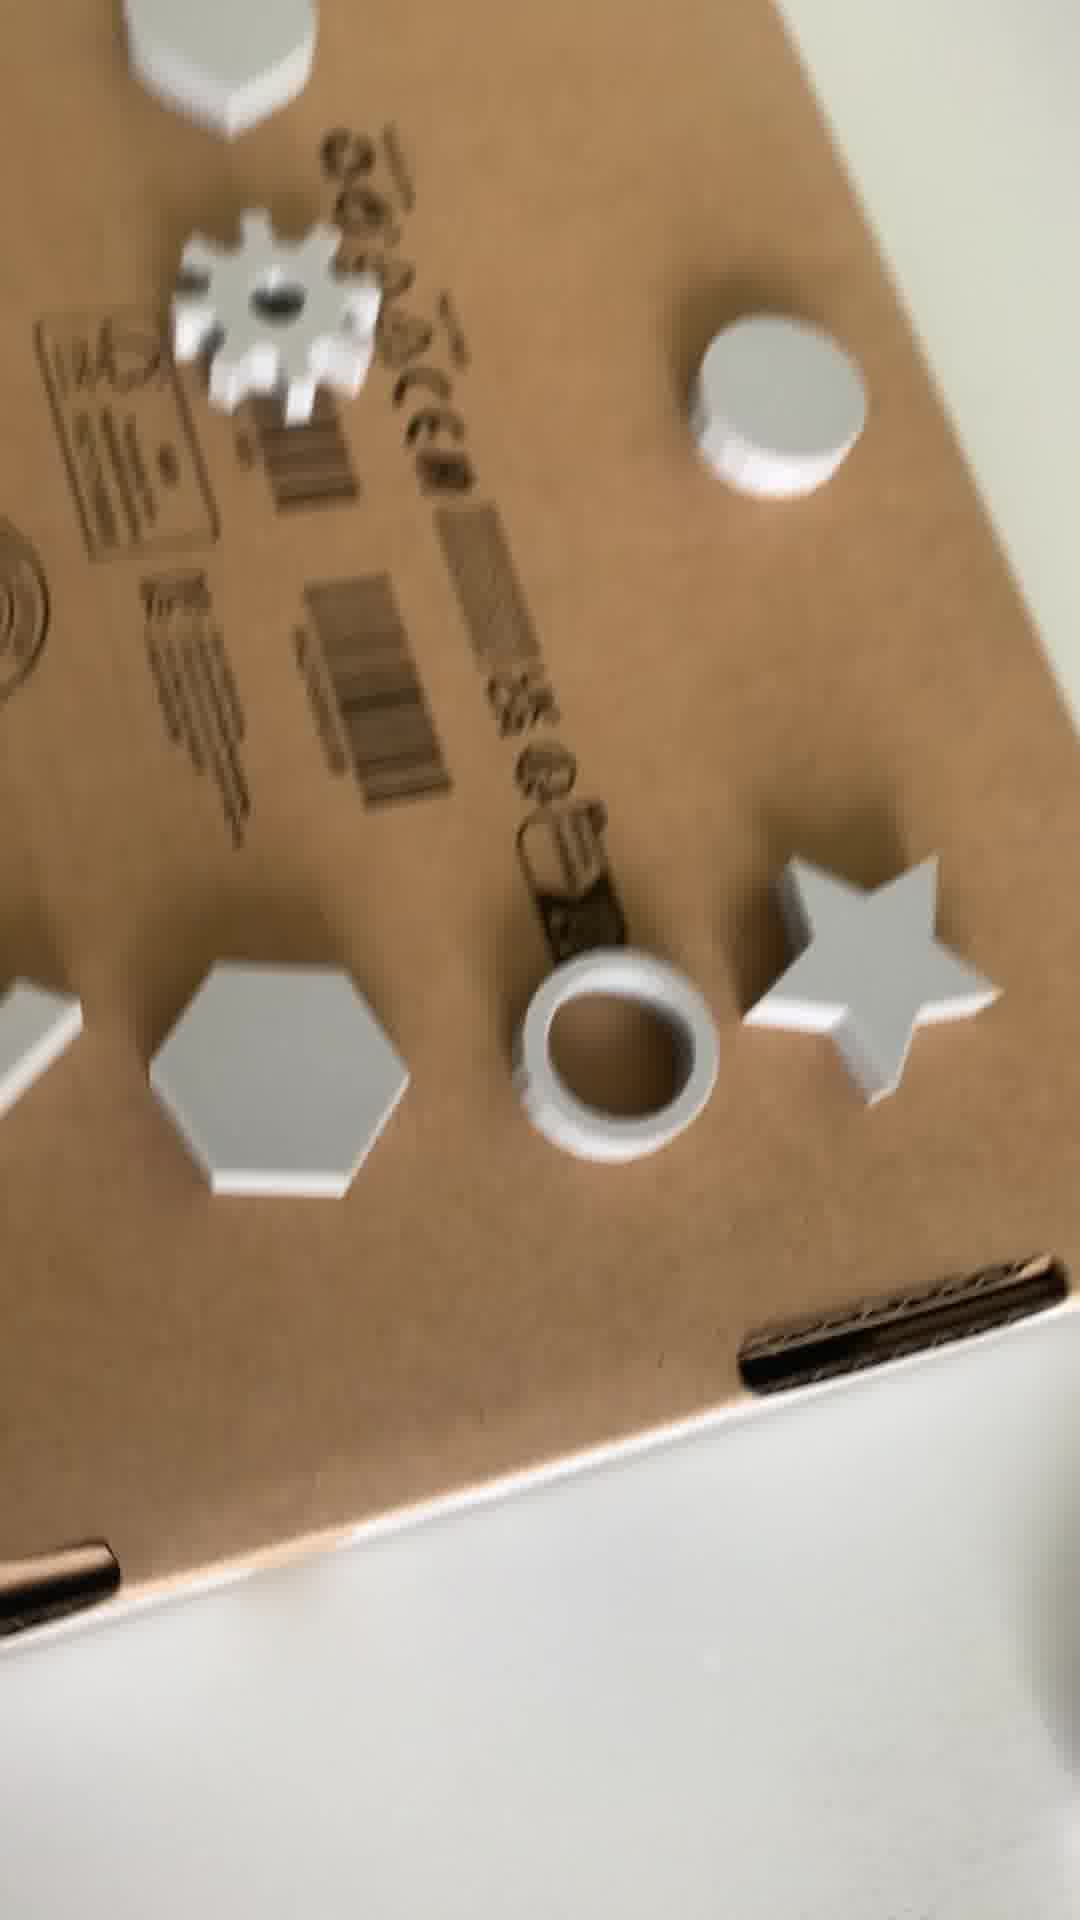Gray circle: (686, 291, 882, 512)
Gray gear: (156, 224, 371, 406)
Gray heart: (113, 1, 342, 131)
Gray hexagon: (138, 952, 425, 1216)
Gray ring: (521, 938, 717, 1171)
Gray star: (746, 848, 998, 1089)
